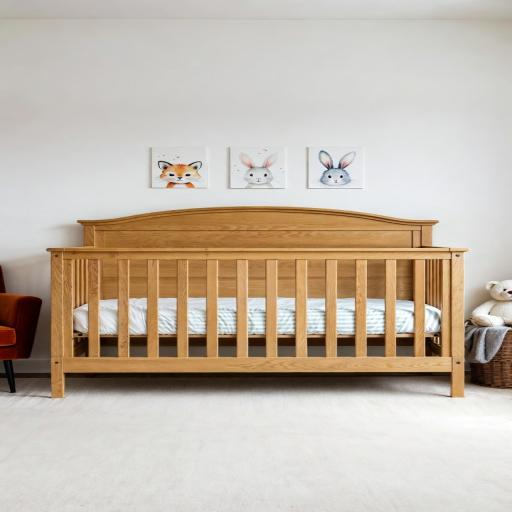crib: (49, 207, 466, 397)
